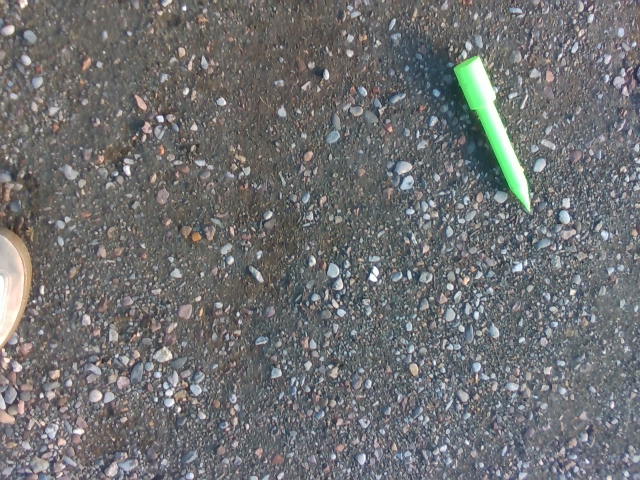Probe: (451, 51, 535, 220)
